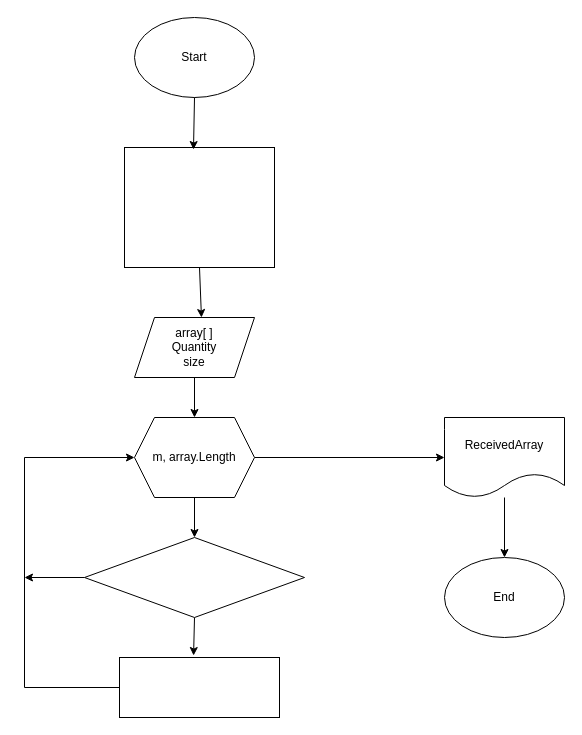
This 582x735 diagram has some shape labels left out. Here are the shapes that lost their labels. From the top down, the centre of each, then its label:
At [199,207]: "array[ ] Quantity size ReceivedArray [ ] n=0 m=0".
At [194,577]: "array[m].Length <=Quantitty".
At [199,687]: "ReceivedArray[n] = array[m] n++".
